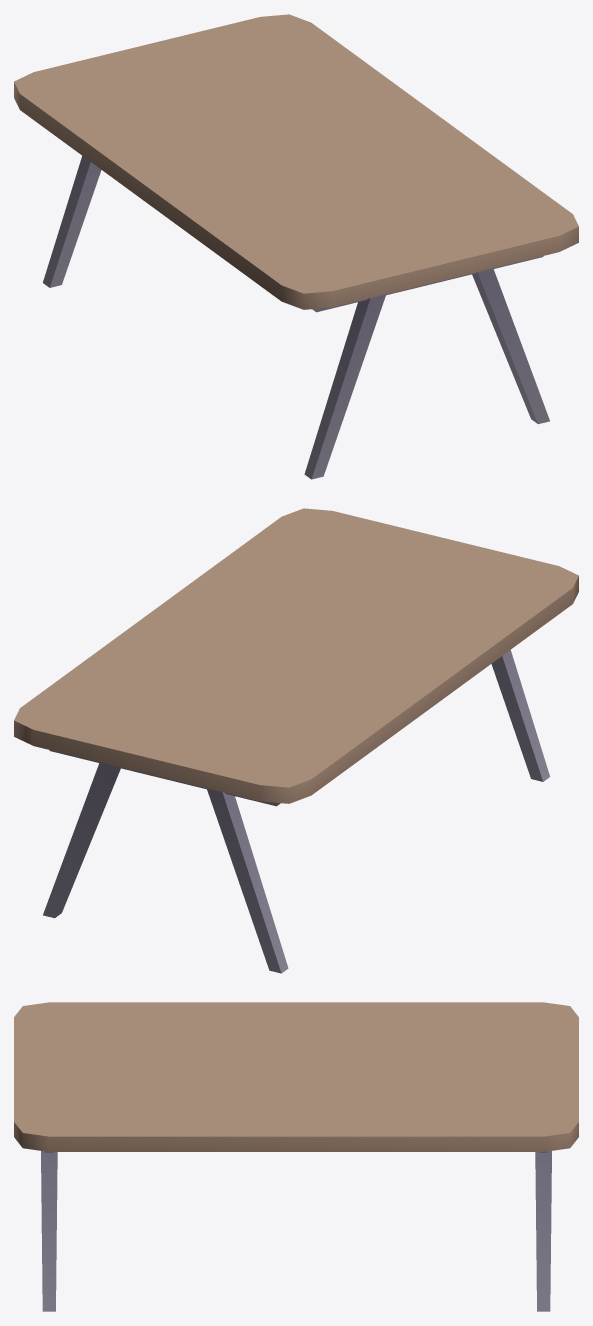
Rendered from desk-slanted-legs_0.glb.
3 views of the same model, one above another, from view 1: azimuth 30°, elevation 25°; view 2: azimuth 150°, elevation 25°; view 3: azimuth 270°, elevation 25° (orthographic). The views are drawn at different scales.
Visible parts, largest first — view 1: desk-slanted-legs; view 2: desk-slanted-legs; view 3: desk-slanted-legs.
Part boxes in pixels (x1,y1,x2,y2): desk-slanted-legs: (14,14,578,479); desk-slanted-legs: (14,508,578,973); desk-slanted-legs: (14,1002,578,1311).
Bounding box in the file's own units: 0.9 × 0.5846 × 1.6.
